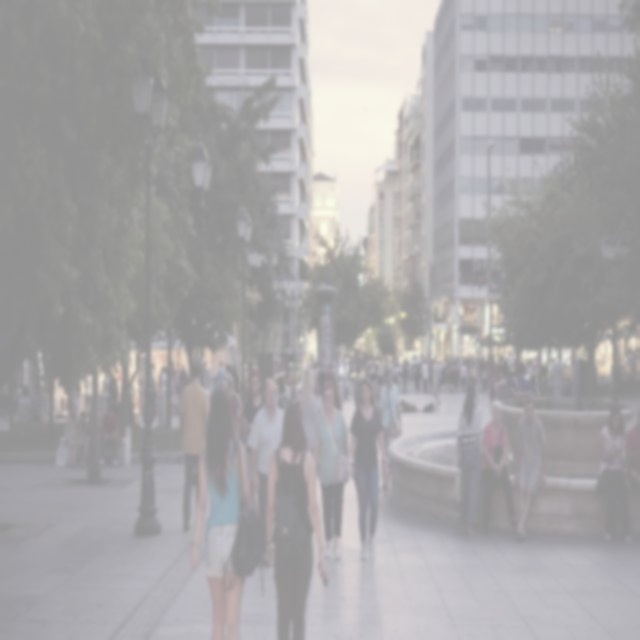pessoa: (147, 344, 548, 394), (189, 384, 252, 639), (265, 401, 330, 638), (346, 374, 390, 564), (308, 378, 351, 562), (248, 378, 284, 558), (178, 353, 210, 535), (594, 402, 632, 546), (479, 397, 517, 536), (516, 398, 548, 542), (455, 378, 483, 542), (242, 371, 266, 502), (378, 366, 402, 456), (299, 366, 320, 454), (98, 402, 121, 470), (14, 380, 50, 420), (70, 408, 92, 470), (230, 392, 253, 448), (624, 402, 639, 474), (65, 398, 79, 468), (385, 418, 398, 489), (549, 349, 566, 402), (620, 346, 640, 382), (351, 364, 366, 411), (570, 348, 581, 400), (109, 358, 120, 410), (126, 352, 138, 399), (431, 354, 441, 410), (84, 414, 94, 470), (83, 365, 94, 415), (100, 362, 110, 414), (458, 301, 476, 328), (332, 392, 351, 416), (276, 392, 296, 408), (600, 352, 606, 367)
